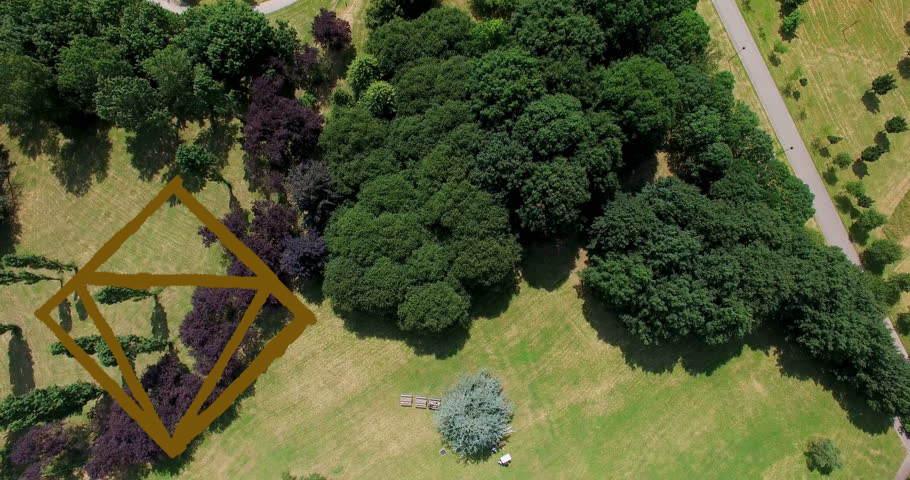marker: (31, 169, 323, 463)
